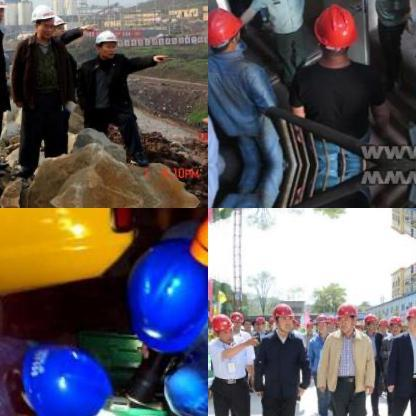Helmet: (120, 239, 207, 354), (2, 344, 115, 415), (312, 2, 356, 48), (208, 7, 243, 54), (29, 0, 56, 38), (92, 26, 118, 58), (271, 299, 294, 331), (208, 312, 232, 340), (336, 298, 356, 328), (51, 13, 67, 42), (313, 310, 327, 336), (386, 312, 402, 334), (404, 300, 415, 331), (362, 309, 376, 331), (230, 308, 242, 332), (375, 314, 387, 334), (254, 312, 266, 330)
